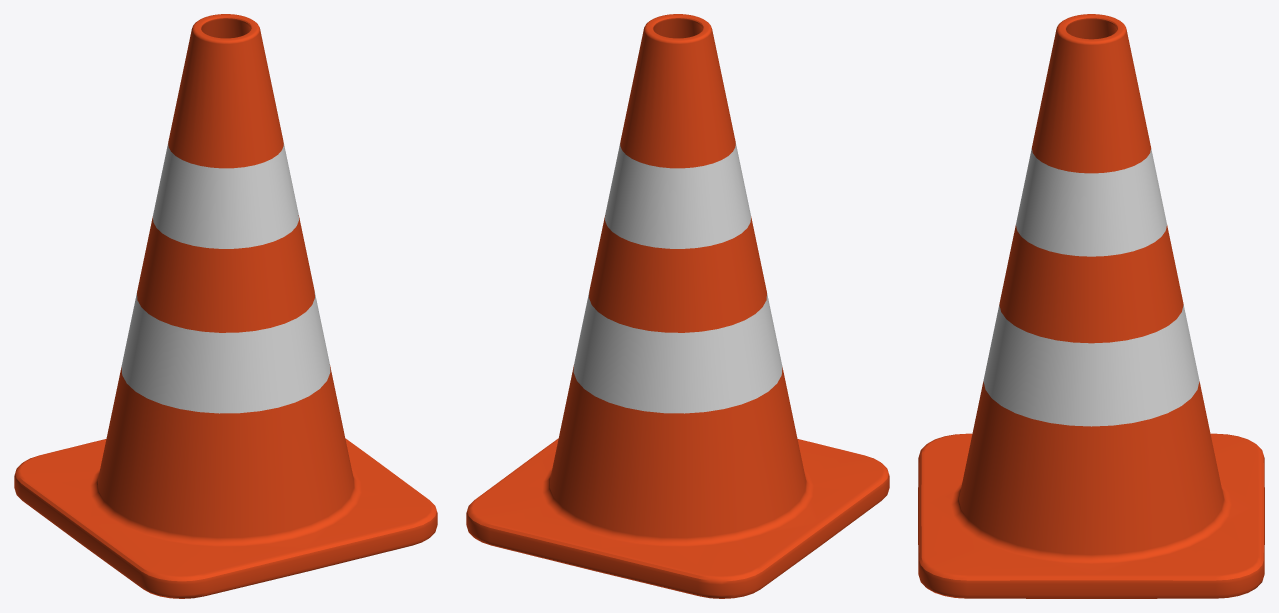
Rendered from traffic_cone.glb.
3 renders of one model, left to right at view 1: azimuth 30°, elevation 25°; view 2: azimuth 150°, elevation 25°; view 3: azimuth 270°, elevation 25°, orthographic. The views are drawn at different scales.
Parts seen in each view (by area): view 1: Cube; view 2: Cube; view 3: Cube.
Part boxes in pixels (box(x1,y1,x2,y2)): Cube: box(14, 14, 437, 598); Cube: box(466, 14, 889, 598); Cube: box(918, 14, 1264, 598).
Bounding box in the file's own units: 0.152 × 0.2417 × 0.152.
